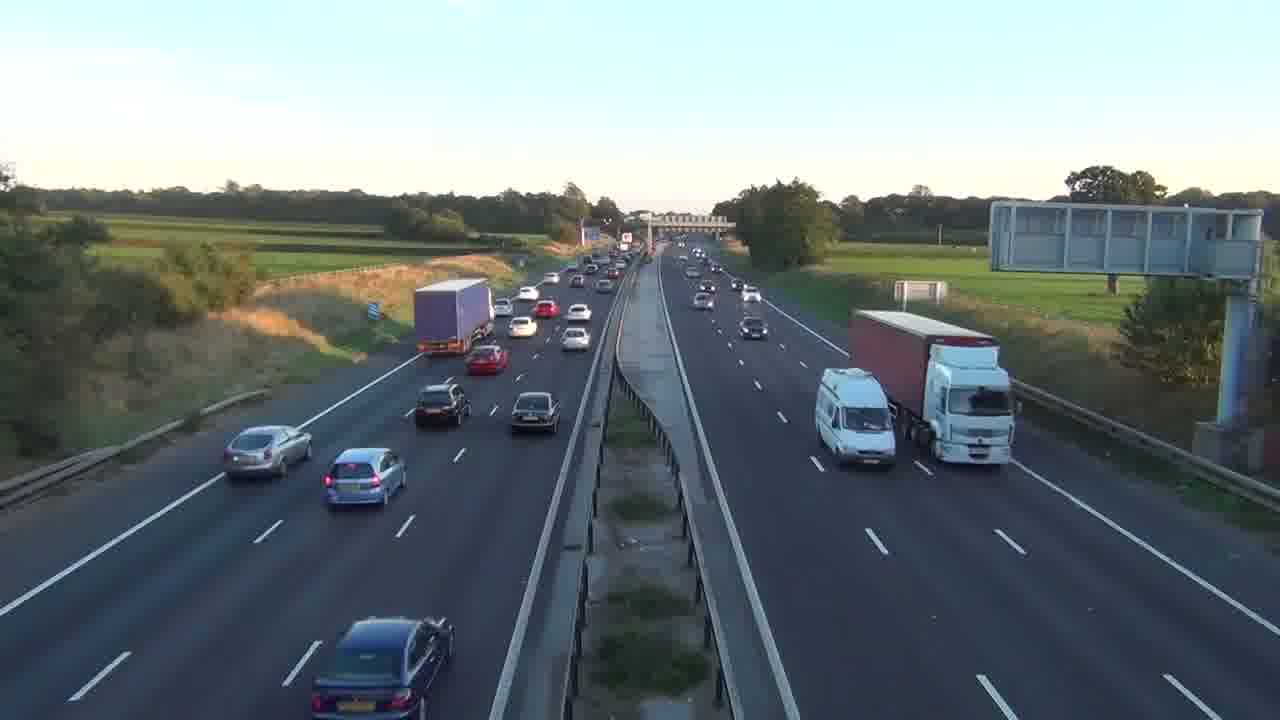car: (308, 615, 455, 718), (321, 447, 406, 511), (222, 424, 313, 482), (414, 378, 471, 429), (510, 391, 561, 435), (464, 342, 509, 376), (560, 325, 591, 352), (738, 317, 770, 340)
truck: (848, 308, 1016, 468), (814, 366, 897, 469), (413, 278, 495, 355)
